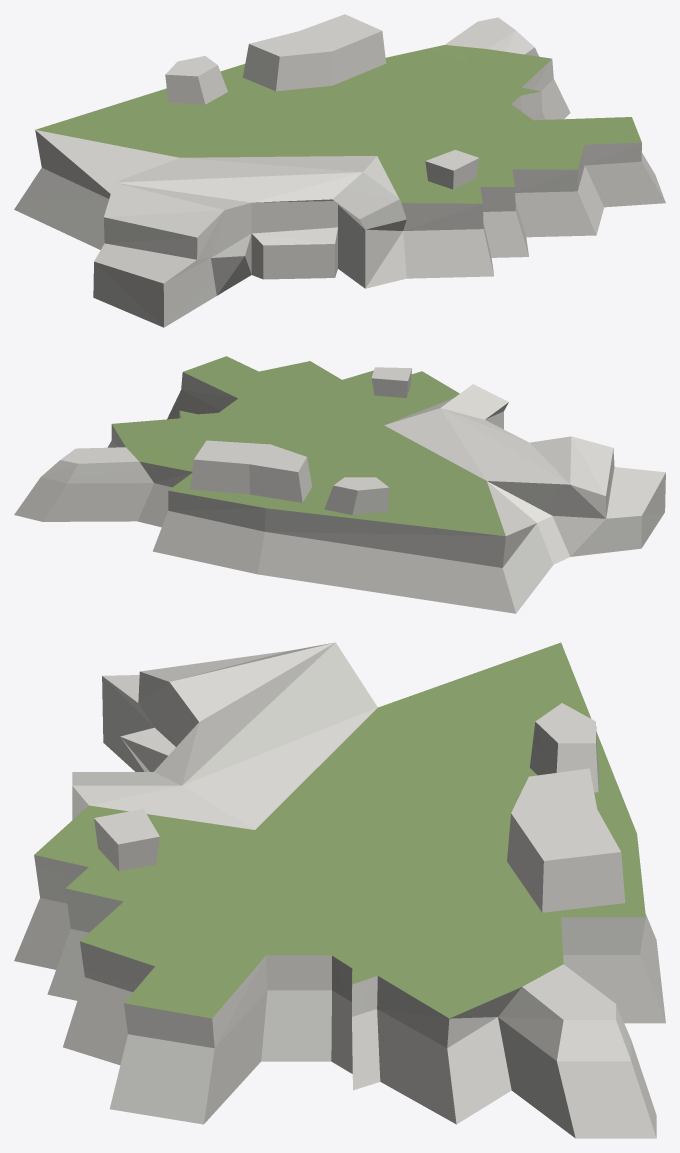
The model's file is Grass.fbx.
The picture shows the model from 3 angles, top to bottom: view 1: azimuth 30°, elevation 25°; view 2: azimuth 150°, elevation 25°; view 3: azimuth 270°, elevation 25°; orthographic projection. The views are drawn at different scales.
Parts seen in each view (by area): view 1: Terrain_Rock_Mound_Shelf_Grass_01.001, Terrain_Rock_Mound_Shelf_Grass_01; view 2: Terrain_Rock_Mound_Shelf_Grass_01.001, Terrain_Rock_Mound_Shelf_Grass_01; view 3: Terrain_Rock_Mound_Shelf_Grass_01.001, Terrain_Rock_Mound_Shelf_Grass_01.
Part boxes in pixels (x1,y1,x2,y2): Terrain_Rock_Mound_Shelf_Grass_01.001: (14,14,665,327); Terrain_Rock_Mound_Shelf_Grass_01: (35,45,641,203); Terrain_Rock_Mound_Shelf_Grass_01.001: (14,367,665,613); Terrain_Rock_Mound_Shelf_Grass_01: (112,356,505,536); Terrain_Rock_Mound_Shelf_Grass_01.001: (14,642,665,1138); Terrain_Rock_Mound_Shelf_Grass_01: (34,642,645,1018).
Size of the model in its own units: 1361 by 238 by 910.
